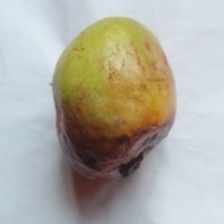guava: (26, 32, 190, 208)
